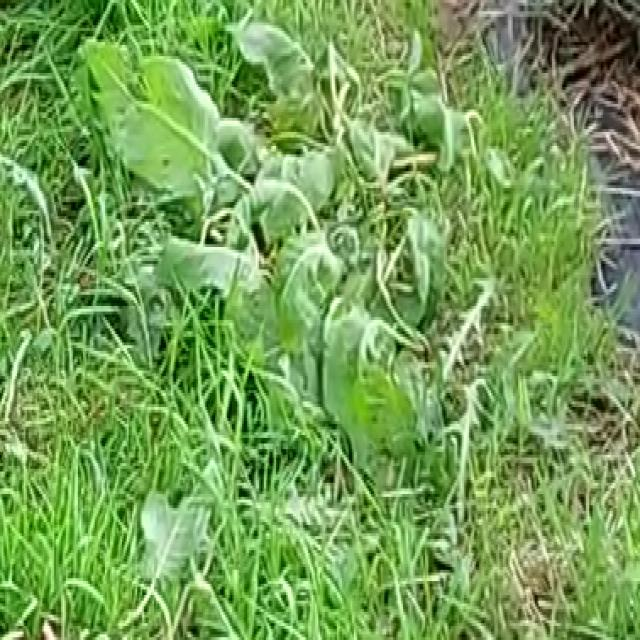organic waste: (224, 45, 462, 483), (81, 0, 379, 345)
